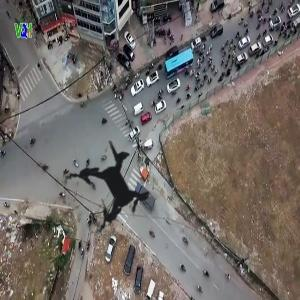drone: (37, 115, 188, 266)
